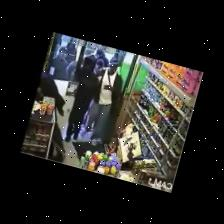person: (83, 59, 121, 145), (64, 55, 97, 141), (35, 73, 64, 162), (36, 73, 64, 115), (49, 47, 67, 80), (64, 42, 75, 63), (95, 50, 108, 67), (65, 61, 76, 80), (93, 59, 103, 72)
